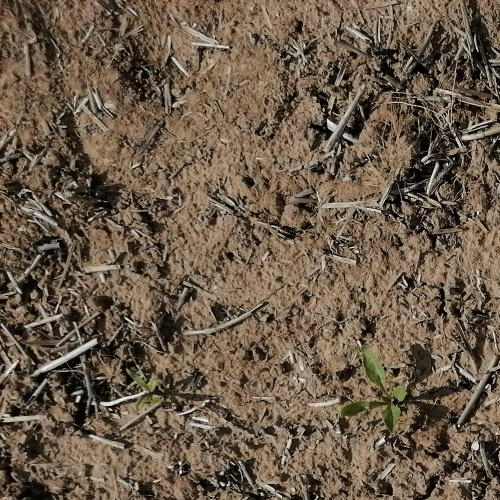beet: (339, 343, 407, 436), (125, 370, 165, 404)
